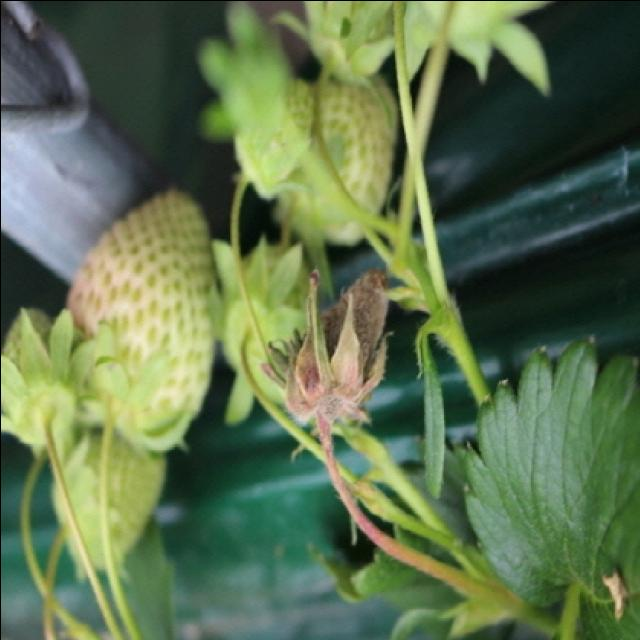Gray Mold: (258, 267, 392, 482)
